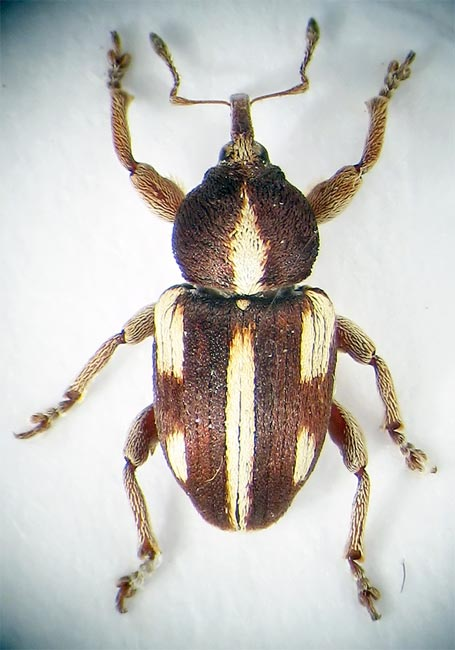dolgonosik: (56, 26, 434, 632)
